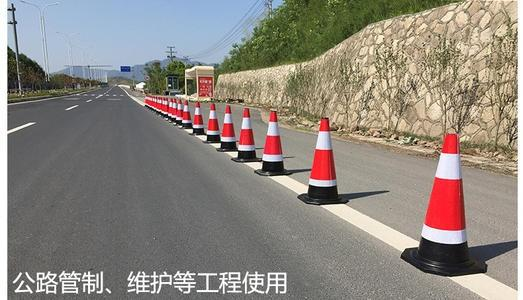cone_barrel: (410, 133, 482, 273), (302, 115, 343, 203), (258, 106, 288, 174), (234, 104, 257, 161), (218, 101, 236, 150), (204, 101, 221, 142), (191, 100, 204, 134), (180, 97, 191, 128)
